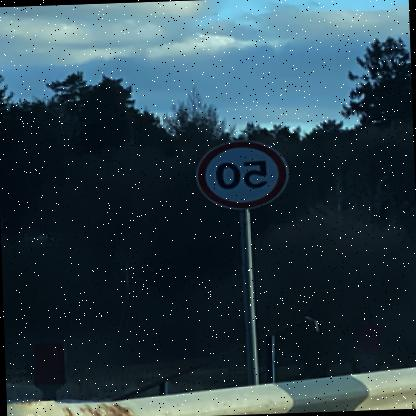speedlimit: (198, 136, 292, 209)
